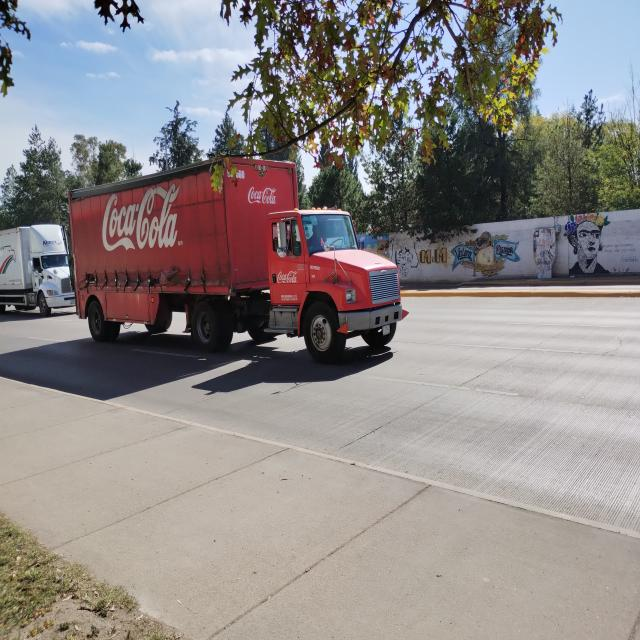Autobus: (66, 162, 407, 358), (0, 218, 75, 314)
